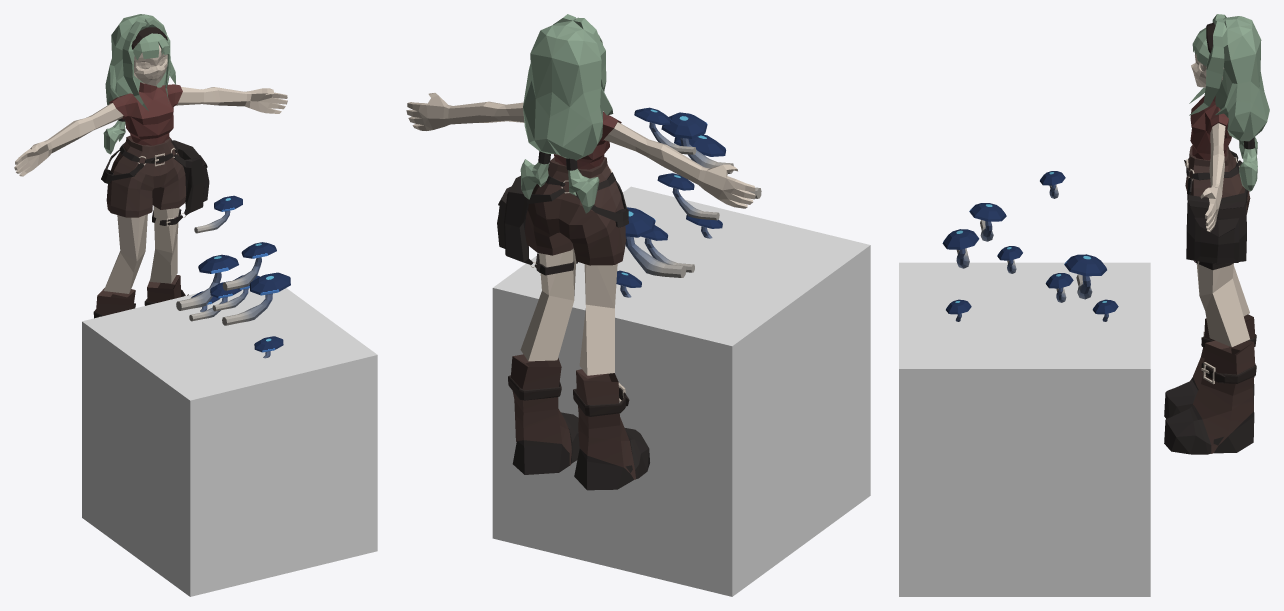
Rendered from Grupo de Hongos-Pared.fbx.
3 renders of one model, left to right at view 1: azimuth 30°, elevation 25°; view 2: azimuth 150°, elevation 25°; view 3: azimuth 270°, elevation 25°, orthographic. The views are drawn at different scales.
Parts seen in each view (by area): view 1: Cube, object 1, Hongo-pared.010, .003, Cube.002, .002, Cube.008, .005, Cube.003, Cube.005; view 2: Cube, object 1, Cube.002, .005, .003, Hongo-pared.010, .011, Cube.008, .007, .002; view 3: Cube, Cube.002, .005, object 1, Hongo-pared.010, Cube.008, .011, .002, .003, .007.
Boxes of the visible parts, x1,y1,x2,y2 form: Cube: (82, 288, 377, 596); object 1: (14, 82, 287, 293); Hongo-pared.010: (176, 195, 290, 358); .003: (106, 135, 185, 217); Cube.002: (103, 14, 176, 154); .002: (109, 82, 182, 145); Cube.008: (119, 139, 209, 225); .005: (96, 275, 181, 315); Cube.003: (134, 44, 167, 86); Cube.005: (133, 33, 169, 60); Cube: (492, 186, 870, 596); object 1: (406, 93, 755, 375); Cube.002: (520, 14, 613, 213); .005: (510, 354, 635, 479); .003: (524, 156, 625, 265); Hongo-pared.010: (616, 107, 761, 297); .011: (512, 412, 649, 490); Cube.008: (497, 163, 615, 275); .007: (508, 375, 629, 416); .002: (554, 111, 621, 169); Cube: (899, 262, 1150, 596); Cube.002: (1189, 14, 1269, 191); .005: (1193, 314, 1255, 453); object 1: (1196, 123, 1249, 347); Hongo-pared.010: (942, 171, 1118, 321); Cube.008: (1184, 150, 1247, 269); .011: (1164, 377, 1254, 454); .002: (1190, 96, 1231, 160); .003: (1185, 145, 1250, 214); .007: (1201, 334, 1256, 383).
Size of the model in its own units: 292 by 478 by 295.
